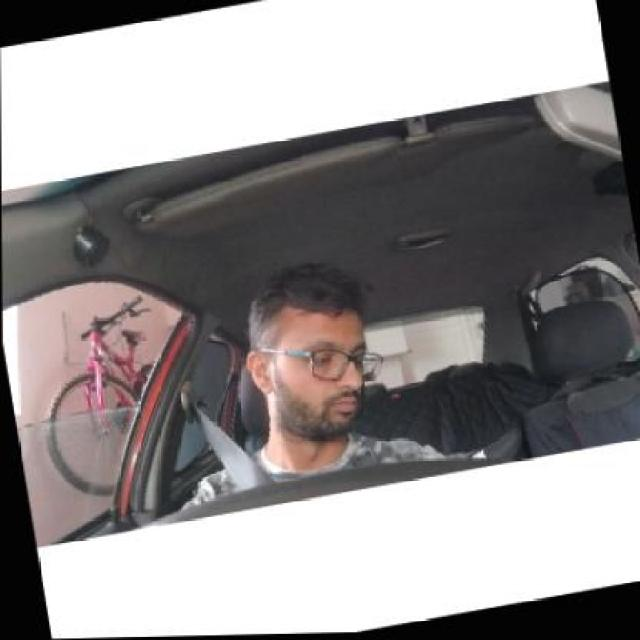person: (245, 272, 367, 436)
